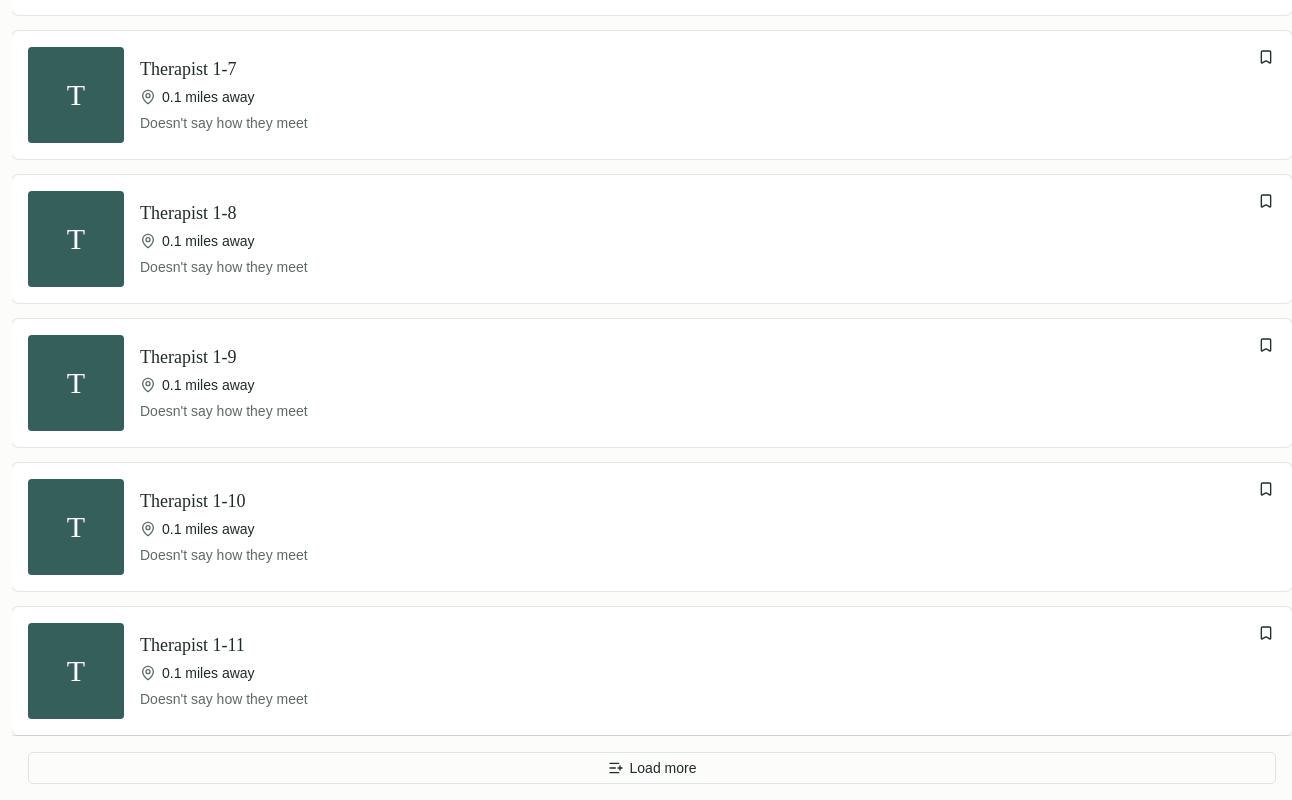
Test case: Results › counts a search near a place as its heading does, and again as Load more brings more
The width and height of the screenshot is (1292, 800).
(page scrolled)
Click the button "Load more".
click(652, 768)  # box [28,752,1276,784]
(page scrolled)
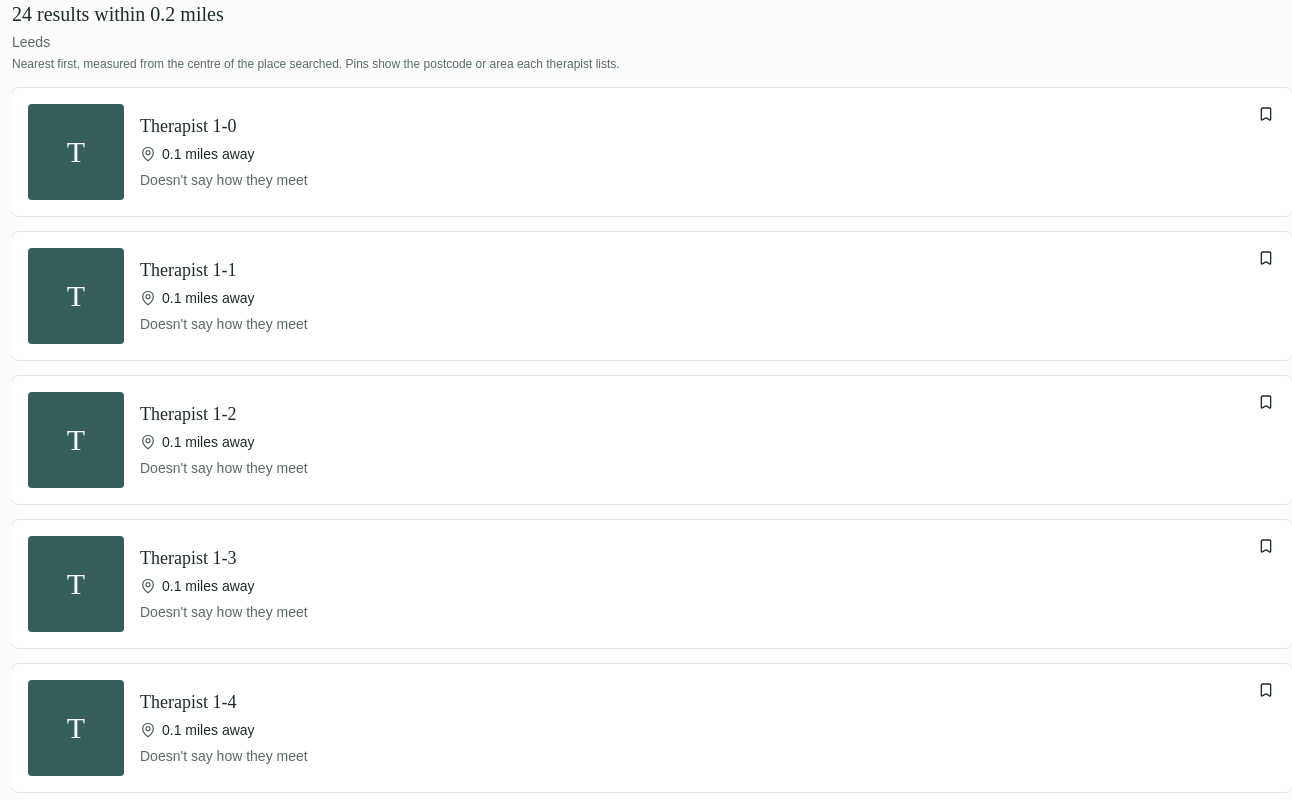
Expected: the heading "24 results within 0.2 miles" is shown, [12,3,224,25]
